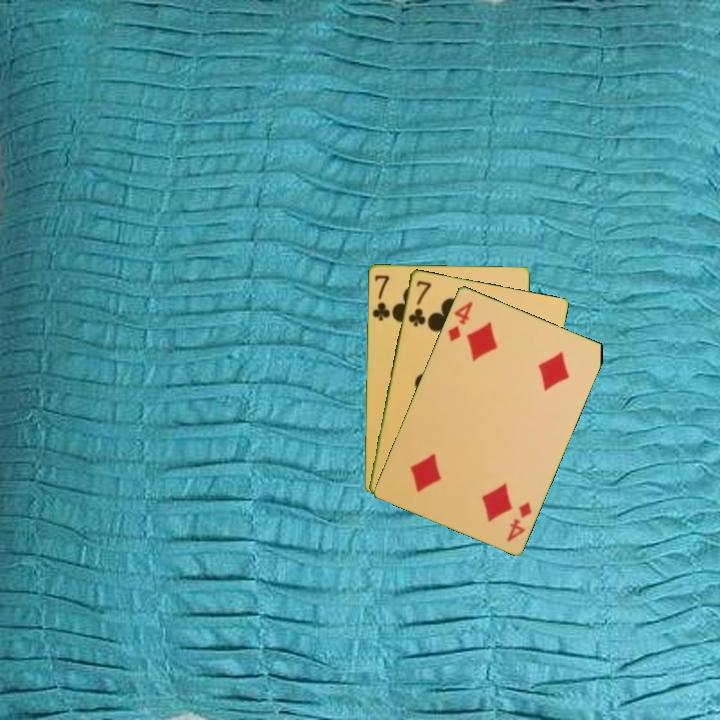4d: (444, 298, 476, 344), (503, 498, 534, 544)
7c: (405, 277, 434, 329), (369, 271, 392, 323)
